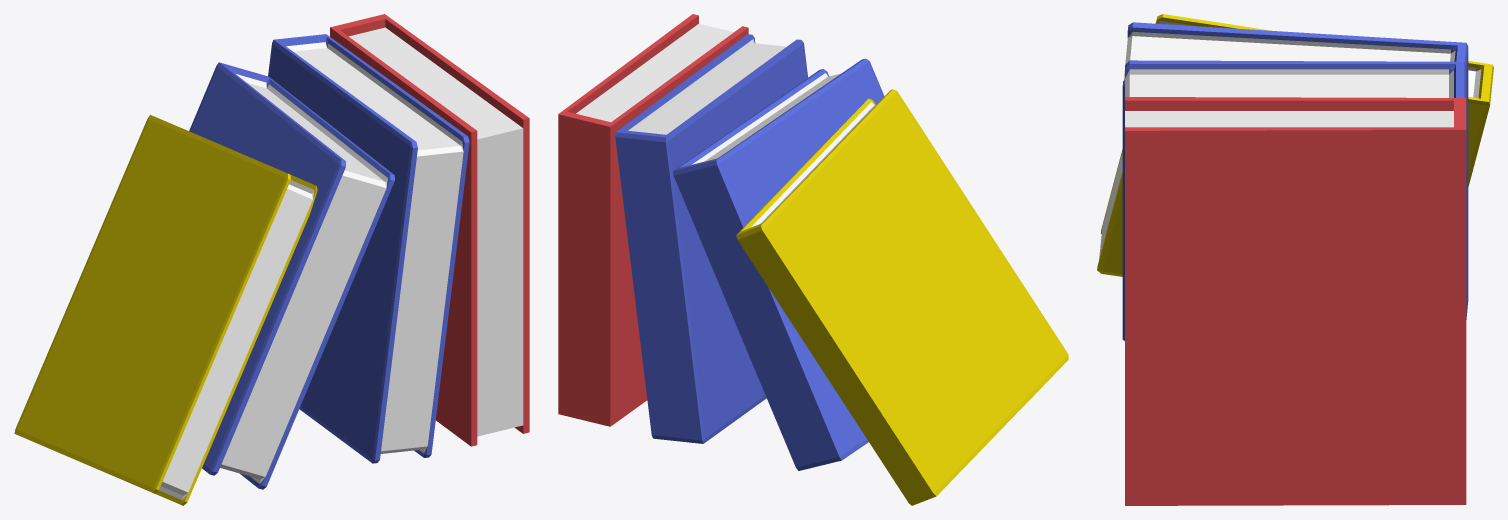
File: Book_stack_2.fbx
3 views of the same model, side by side, from view 1: azimuth 30°, elevation 25°; view 2: azimuth 150°, elevation 25°; view 3: azimuth 270°, elevation 25° (orthographic). The views are drawn at different scales.
Parts seen in each view (by area): view 1: Book stack 2; view 2: Book stack 2; view 3: Book stack 2.
Boxes of the visible parts, x1,y1,x2,y2 form: Book stack 2: (14, 14, 529, 505); Book stack 2: (558, 14, 1068, 505); Book stack 2: (1097, 14, 1493, 505).
Size of the model in its own units: 102 by 85.6 by 76.55.
